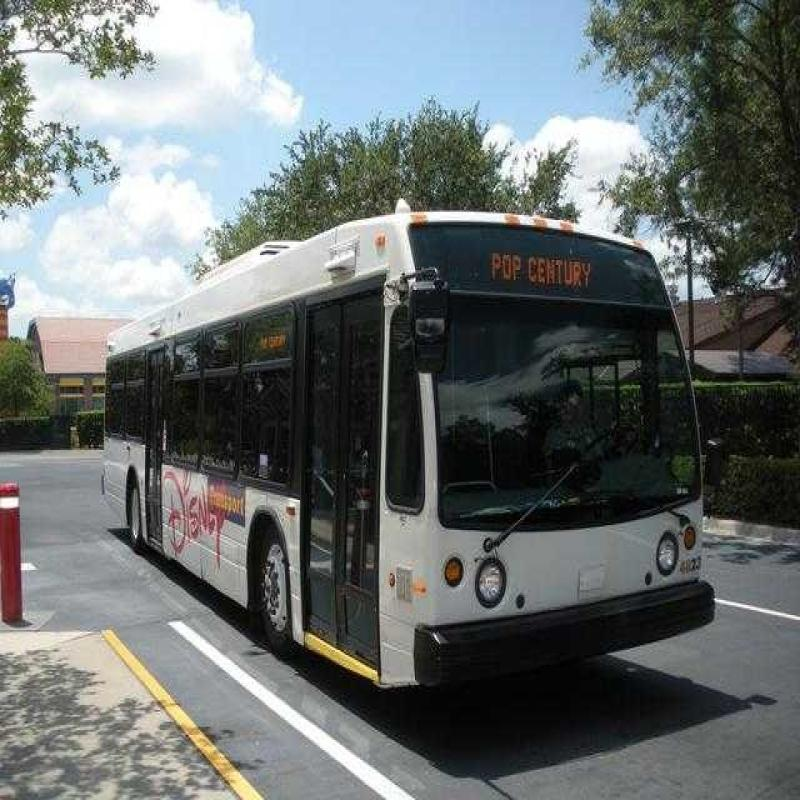bus: (96, 178, 720, 733)
